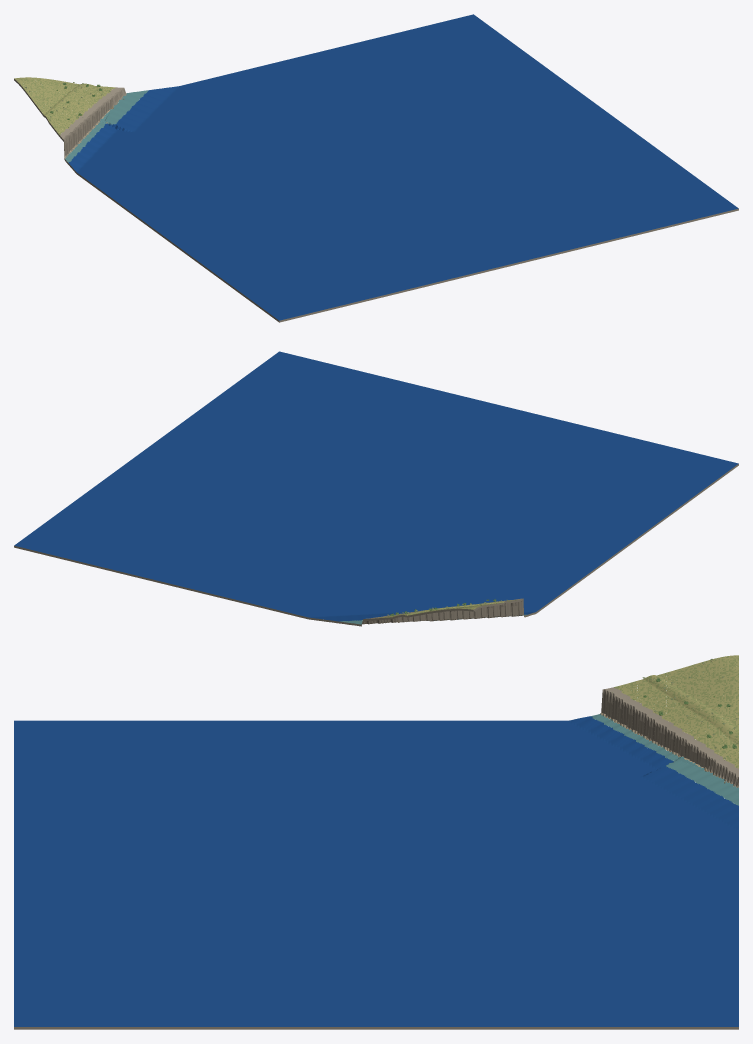
Rendered from parca_+7_-10-yakin.glb.
3 views of the same model, one above another, from view 1: azimuth 30°, elevation 25°; view 2: azimuth 150°, elevation 25°; view 3: azimuth 270°, elevation 25° (orthographic). The views are drawn at different scales.
Visible parts, largest first — view 1: parca_+7_-10_arazi; view 2: parca_+7_-10_arazi; view 3: parca_+7_-10_arazi.
Boxes of the visible parts, box(x1,y1,x2,y2) form: parca_+7_-10_arazi: box(14, 14, 738, 322); parca_+7_-10_arazi: box(14, 351, 738, 626); parca_+7_-10_arazi: box(14, 655, 738, 1029).
Bounding box in the file's own units: 1001 × 104 × 1000.
